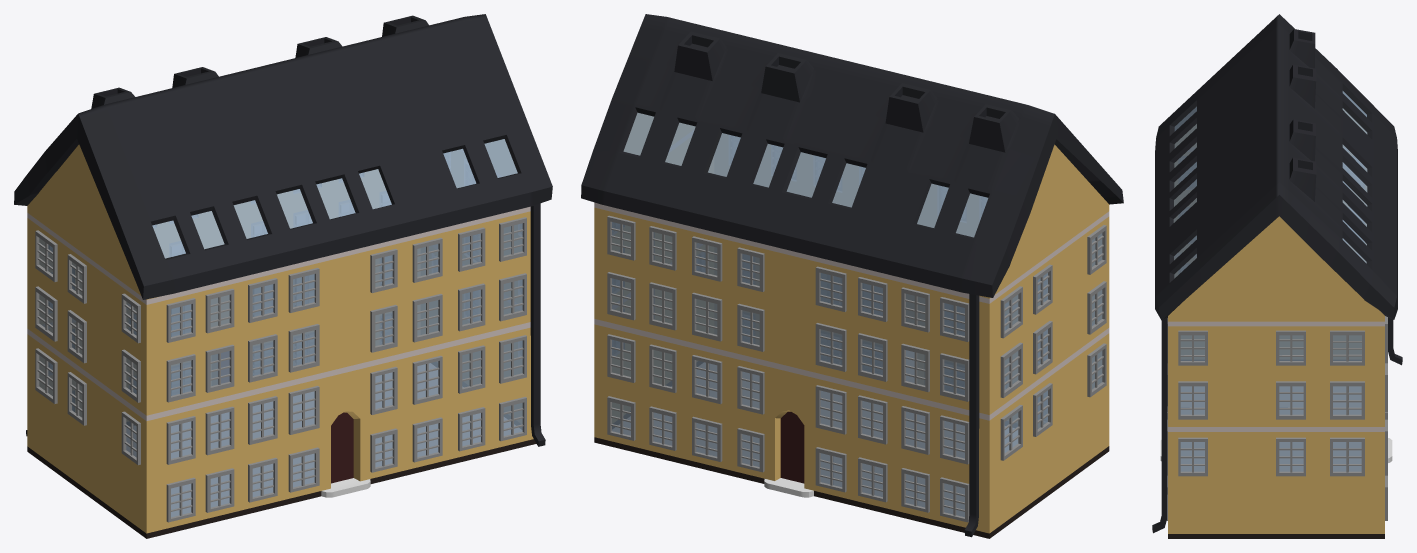
The model's file is SidoHus.fbx.
The picture shows the model from 3 angles, left to right: view 1: azimuth 30°, elevation 25°; view 2: azimuth 150°, elevation 25°; view 3: azimuth 270°, elevation 25°; orthographic projection. The views are drawn at different scales.
Visible parts, largest first — view 1: Sidohus; view 2: Sidohus; view 3: Sidohus.
Boxes of the visible parts, left/top/right/bottom form: Sidohus: left=14, top=14, right=552, bottom=538; Sidohus: left=581, top=14, right=1123, bottom=538; Sidohus: left=1152, top=14, right=1402, bottom=538.
Size of the model in its own units: 316 by 280 by 182.
